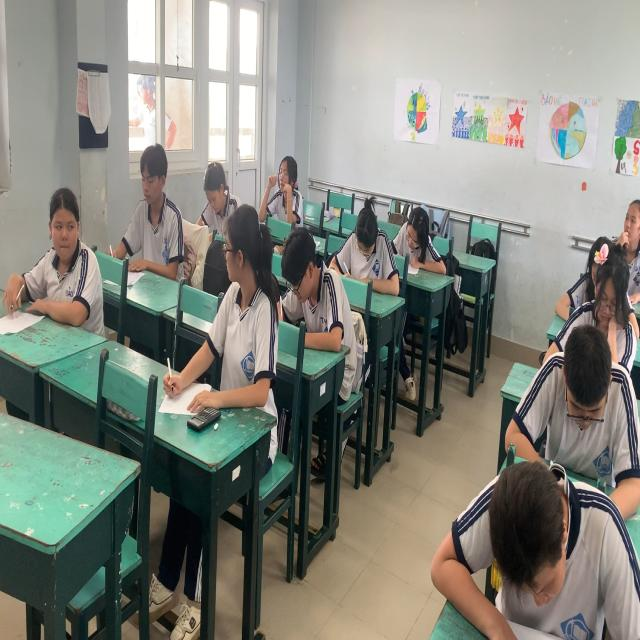cheating: (209, 216, 275, 400), (32, 180, 100, 327)
not_cheating: (484, 440, 602, 630), (547, 334, 630, 475), (282, 226, 354, 342), (126, 140, 182, 284), (342, 205, 399, 313), (390, 186, 441, 280), (576, 254, 628, 346), (266, 144, 310, 228), (194, 152, 236, 238), (614, 181, 640, 254)
